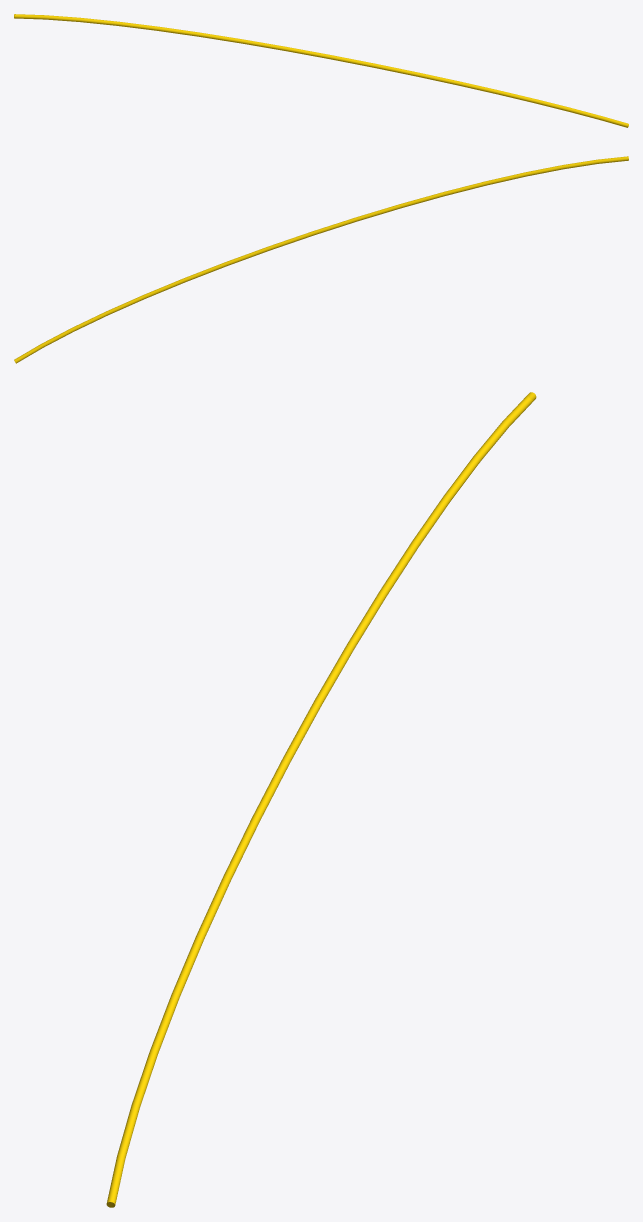
Rendered from Event_421115418_track_39.fbx.
3 renders of one model, top to bottom at view 1: azimuth 30°, elevation 25°; view 2: azimuth 210°, elevation 25°; view 3: azimuth 270°, elevation 25°, orthographic. The views are drawn at different scales.
Visible parts, largest first — view 1: Model; view 2: Model; view 3: Model.
Part boxes in pixels (x1,y1,x2,y2): Model: (14,14,628,127); Model: (14,156,628,363); Model: (106,392,536,1207).
Bounding box in the file's own units: 5.34 × 1.6 × 1.95.
